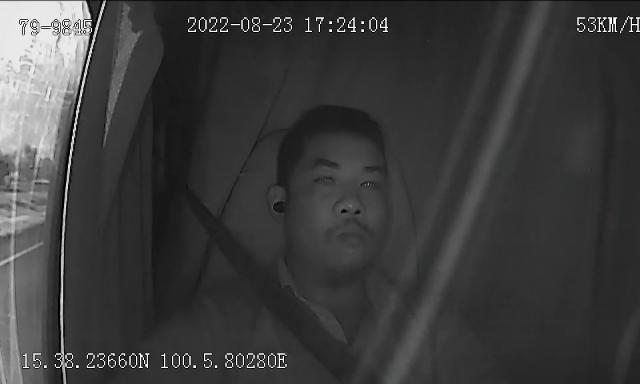SafeDriving: (353, 166, 388, 198), (308, 162, 342, 194)
Seatbelt: (174, 180, 350, 374)
